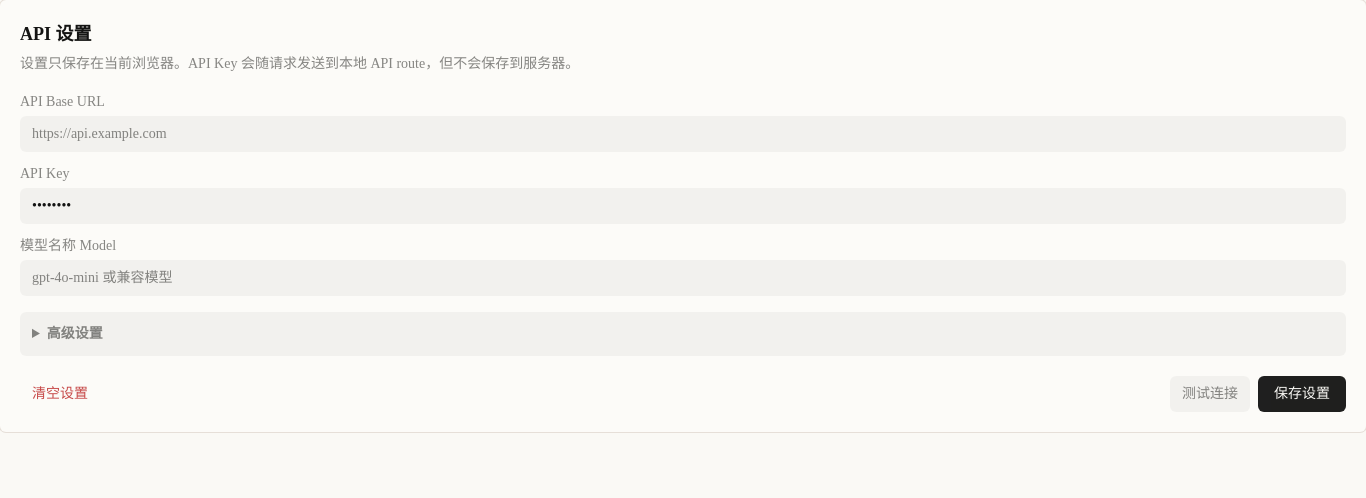
it: ApiSettingsPanel › shows clear settings feedback
Click the button "清空设置" at (60, 394), box [20, 376, 100, 412]
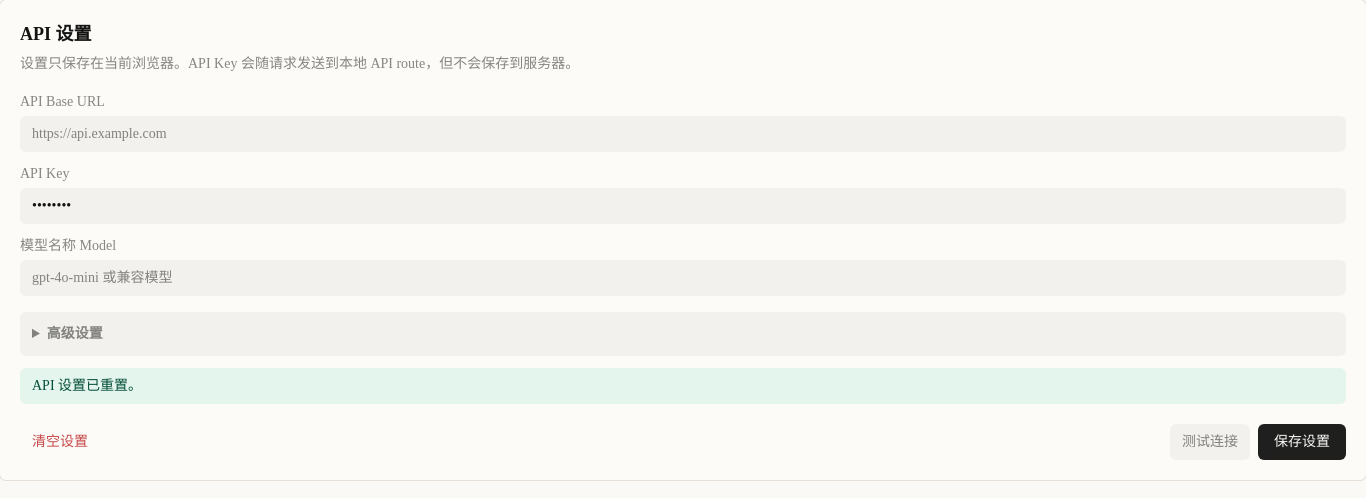
Expected: the message reads "API 设置已重置。", [32, 378, 142, 393]
